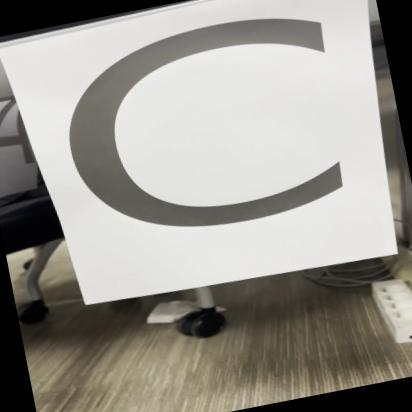seat: (0, 0, 412, 341)
